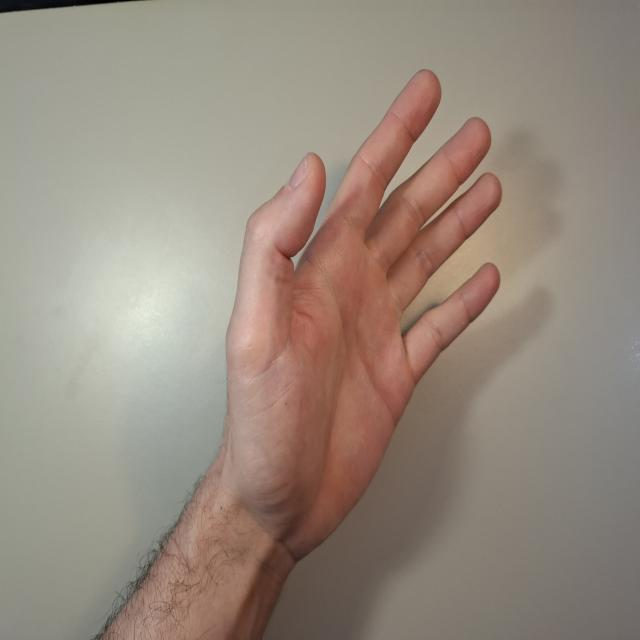glove_off: (220, 65, 504, 576)
